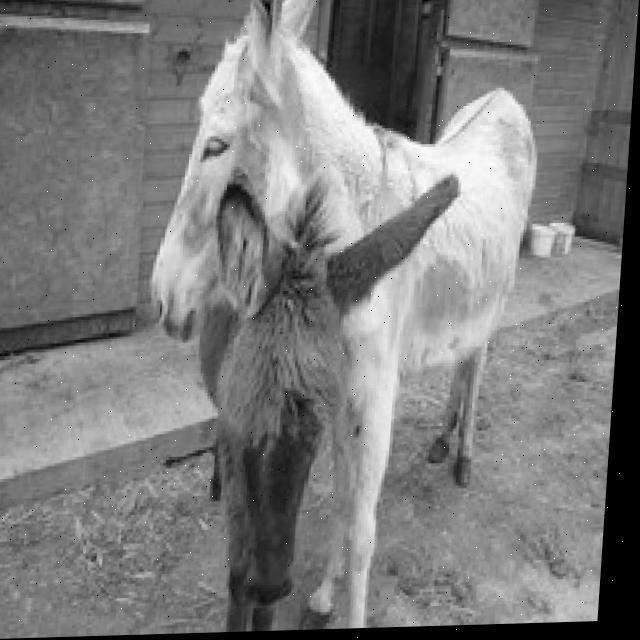Donkey: (123, 0, 548, 632), (177, 158, 463, 631)
